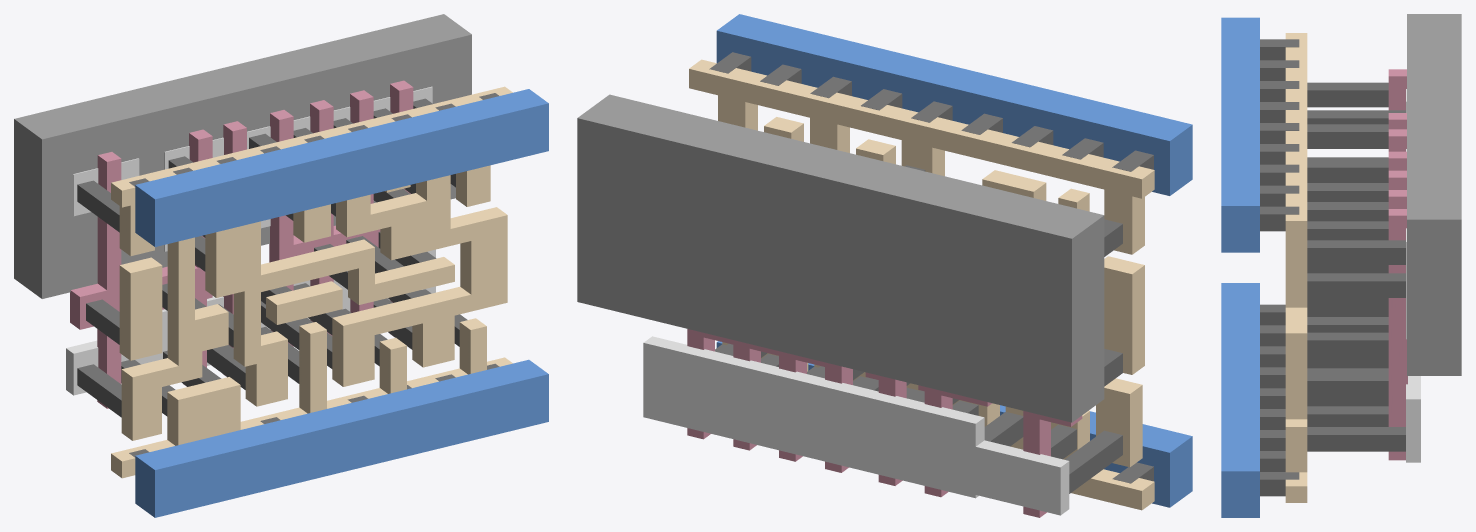
The model's file is sky130_fd_sc_hd__or2b_4.gds.gltf.
3 views of the same model, side by side, from view 1: azimuth 30°, elevation 25°; view 2: azimuth 150°, elevation 25°; view 3: azimuth 270°, elevation 25° (orthographic). The views are drawn at different scales.
Visible parts, largest first — view 1: sky130_fd_sc_hd__or2b_4_li1, sky130_fd_sc_hd__or2b_4_met1, sky130_fd_sc_hd__or2b_4_nwell, sky130_fd_sc_hd__or2b_4_licon, sky130_fd_sc_hd__or2b_4_poly, sky130_fd_sc_hd__or2b_4_diff, sky130_fd_sc_hd__or2b_4_mcon; view 2: sky130_fd_sc_hd__or2b_4_nwell, sky130_fd_sc_hd__or2b_4_diff, sky130_fd_sc_hd__or2b_4_li1, sky130_fd_sc_hd__or2b_4_met1, sky130_fd_sc_hd__or2b_4_licon, sky130_fd_sc_hd__or2b_4_poly, sky130_fd_sc_hd__or2b_4_mcon; view 3: sky130_fd_sc_hd__or2b_4_licon, sky130_fd_sc_hd__or2b_4_nwell, sky130_fd_sc_hd__or2b_4_met1, sky130_fd_sc_hd__or2b_4_mcon, sky130_fd_sc_hd__or2b_4_li1, sky130_fd_sc_hd__or2b_4_poly, sky130_fd_sc_hd__or2b_4_diff.
Part boxes in pixels (x1,y1,x2,y2): sky130_fd_sc_hd__or2b_4_li1: (111,86,512,478); sky130_fd_sc_hd__or2b_4_met1: (135,89,548,517); sky130_fd_sc_hd__or2b_4_nwell: (14,14,471,298); sky130_fd_sc_hd__or2b_4_licon: (77,98,467,417); sky130_fd_sc_hd__or2b_4_poly: (70,80,413,408); sky130_fd_sc_hd__or2b_4_diff: (66,86,435,395); sky130_fd_sc_hd__or2b_4_mcon: (129,93,499,457); sky130_fd_sc_hd__or2b_4_nwell: (577,94,1104,422); sky130_fd_sc_hd__or2b_4_diff: (643,336,1069,515); sky130_fd_sc_hd__or2b_4_li1: (689,59,1154,510); sky130_fd_sc_hd__or2b_4_met1: (716,14,1192,507); sky130_fd_sc_hd__or2b_4_licon: (715,165,1122,493); sky130_fd_sc_hd__or2b_4_poly: (687,329,1082,517); sky130_fd_sc_hd__or2b_4_mcon: (709,52,1153,483); sky130_fd_sc_hd__or2b_4_licon: (1307,82,1405,451); sky130_fd_sc_hd__or2b_4_nwell: (1407,14,1461,375); sky130_fd_sc_hd__or2b_4_met1: (1221,17,1259,517); sky130_fd_sc_hd__or2b_4_mcon: (1260,39,1299,496); sky130_fd_sc_hd__or2b_4_li1: (1285,33,1307,502); sky130_fd_sc_hd__or2b_4_poly: (1388,69,1407,460); sky130_fd_sc_hd__or2b_4_diff: (1406,89,1420,462).
Size of the model in its own units: 4.52 by 3.2 by 2.24.
